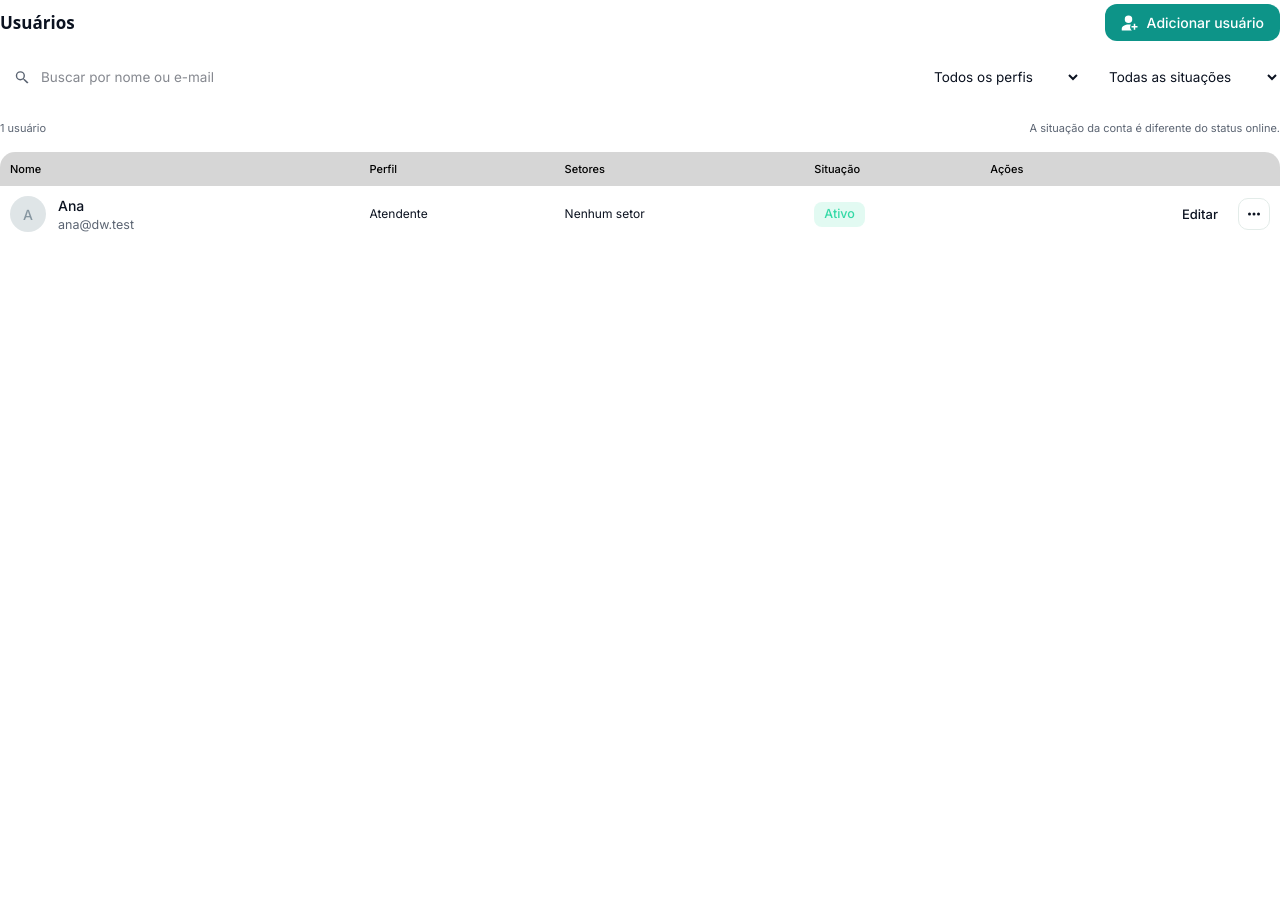
Test: AgentsAdminTab › falha ao desativar: o usuário continua ativo, o erro aparece e dá para tentar de novo
Click the button named "mais ações": point(1254, 214) [1238,198,1270,230]
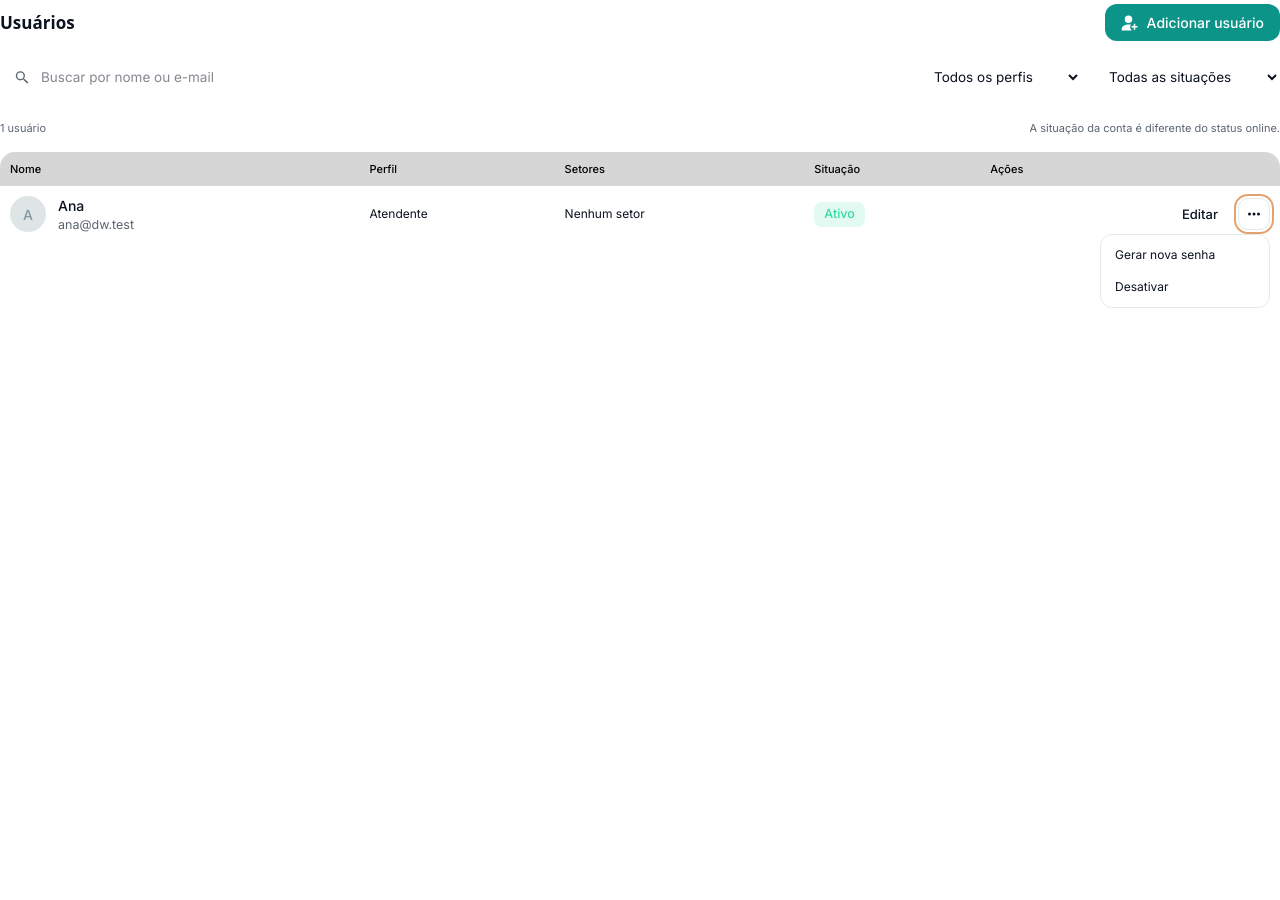
Click the button "Desativar": point(1185, 287) [1105,271,1265,303]
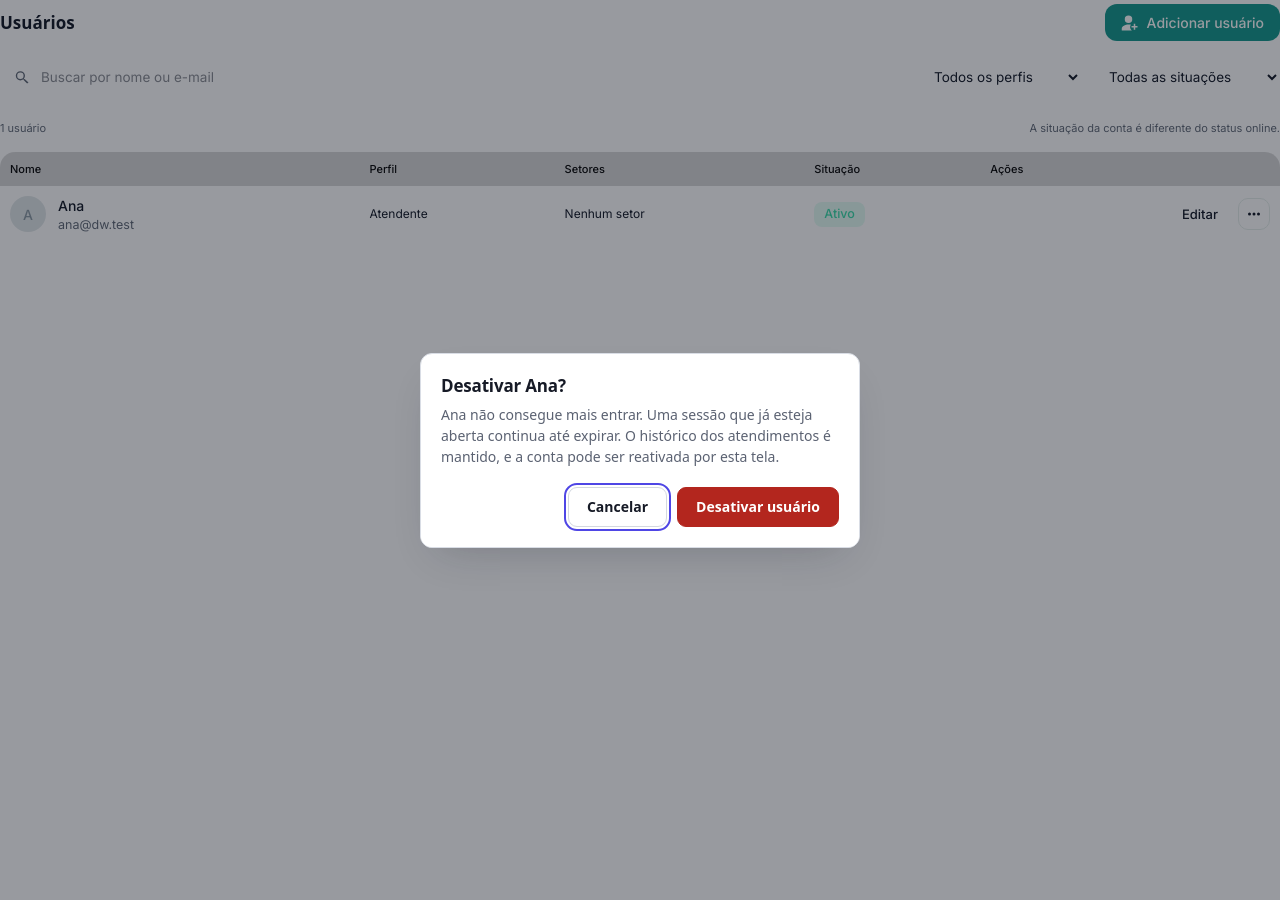
Click the button "Desativar usuário": point(758, 506) [677,486,839,526]
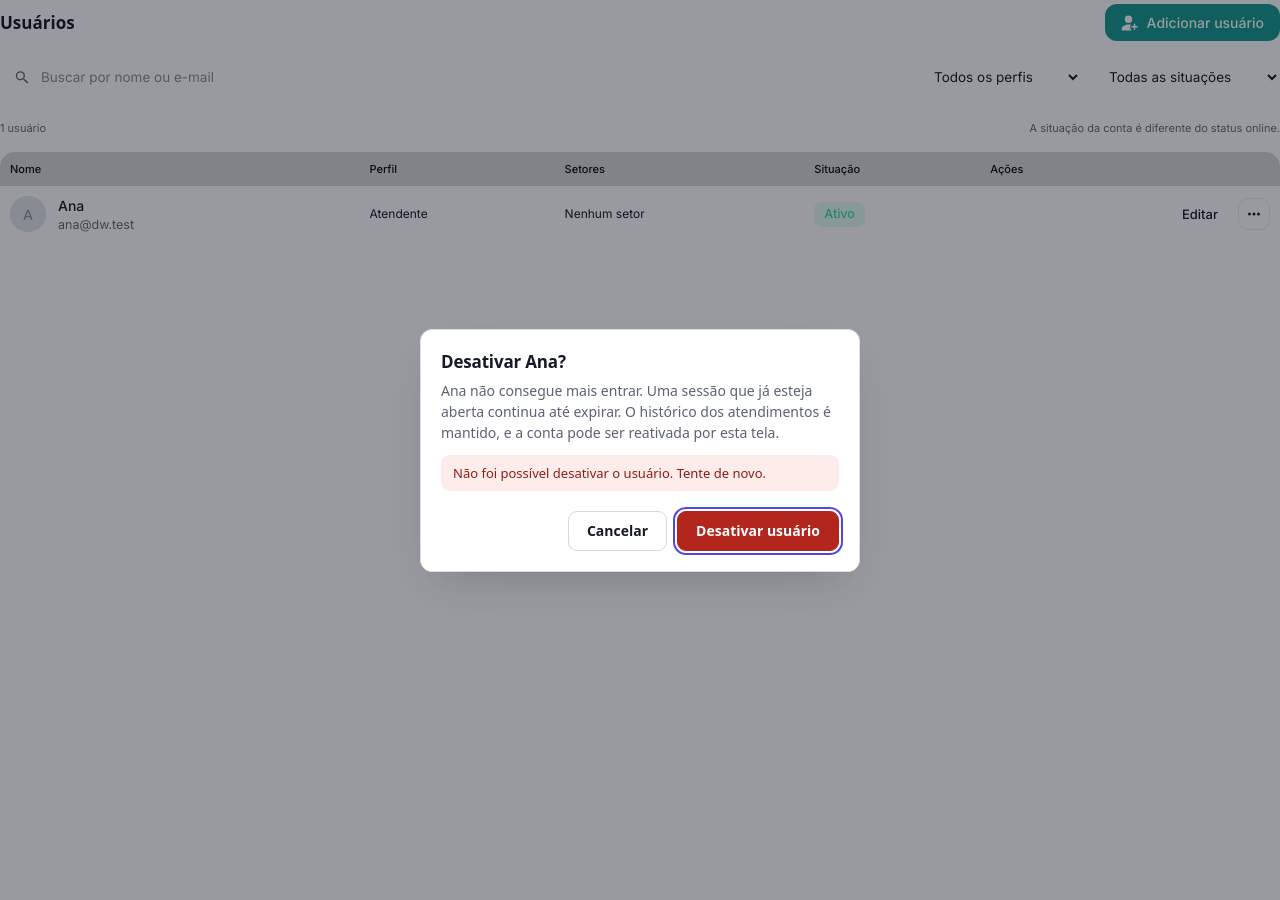
Check: the text "Ativo" is shown, box [814,202,865,227]
Check: the message reads "Não foi possível desativar o usuário. Tente de novo.", box [441,454,839,490]
Click the button "Desativar usuário": point(758, 530) [677,510,839,550]
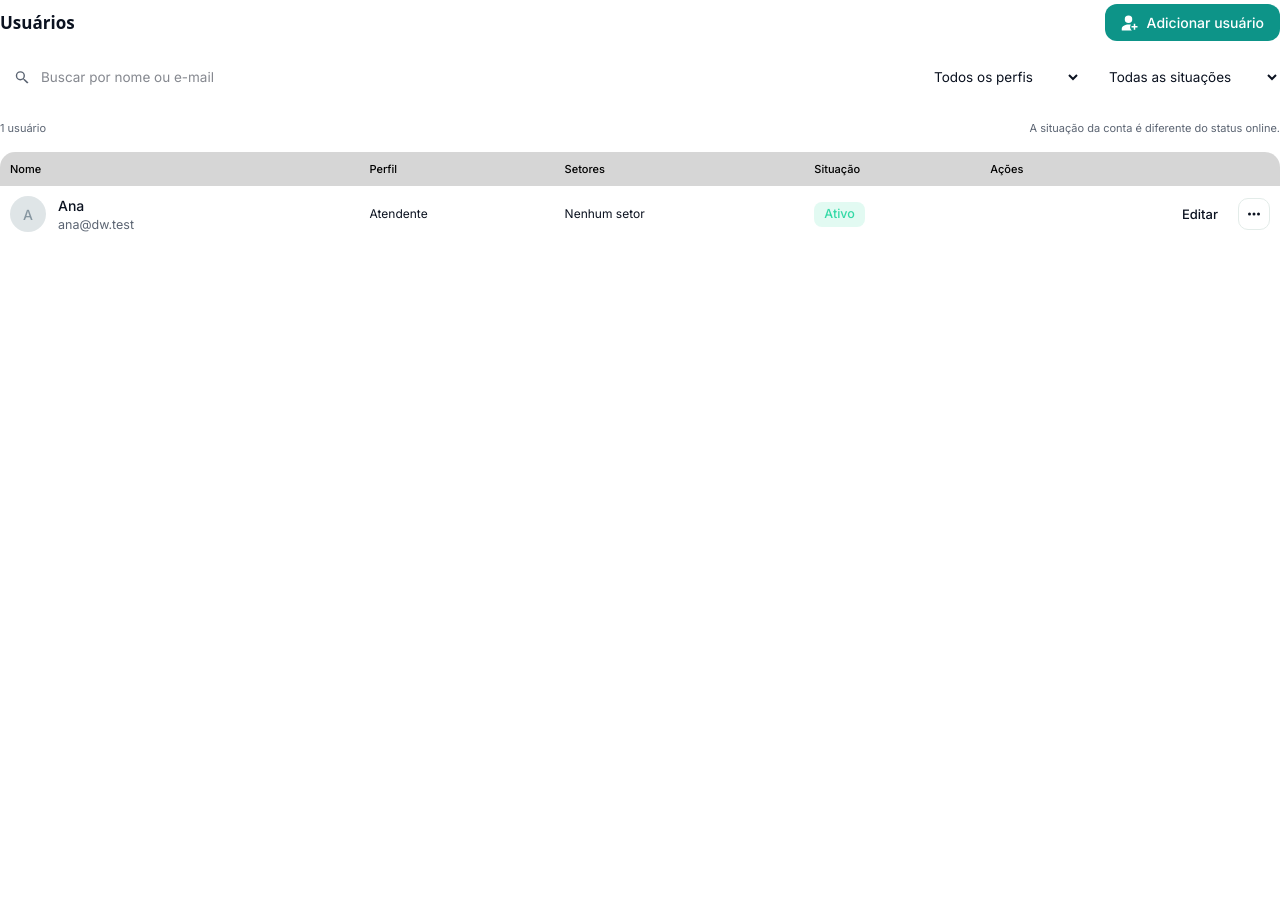
Check: the dialog is gone
